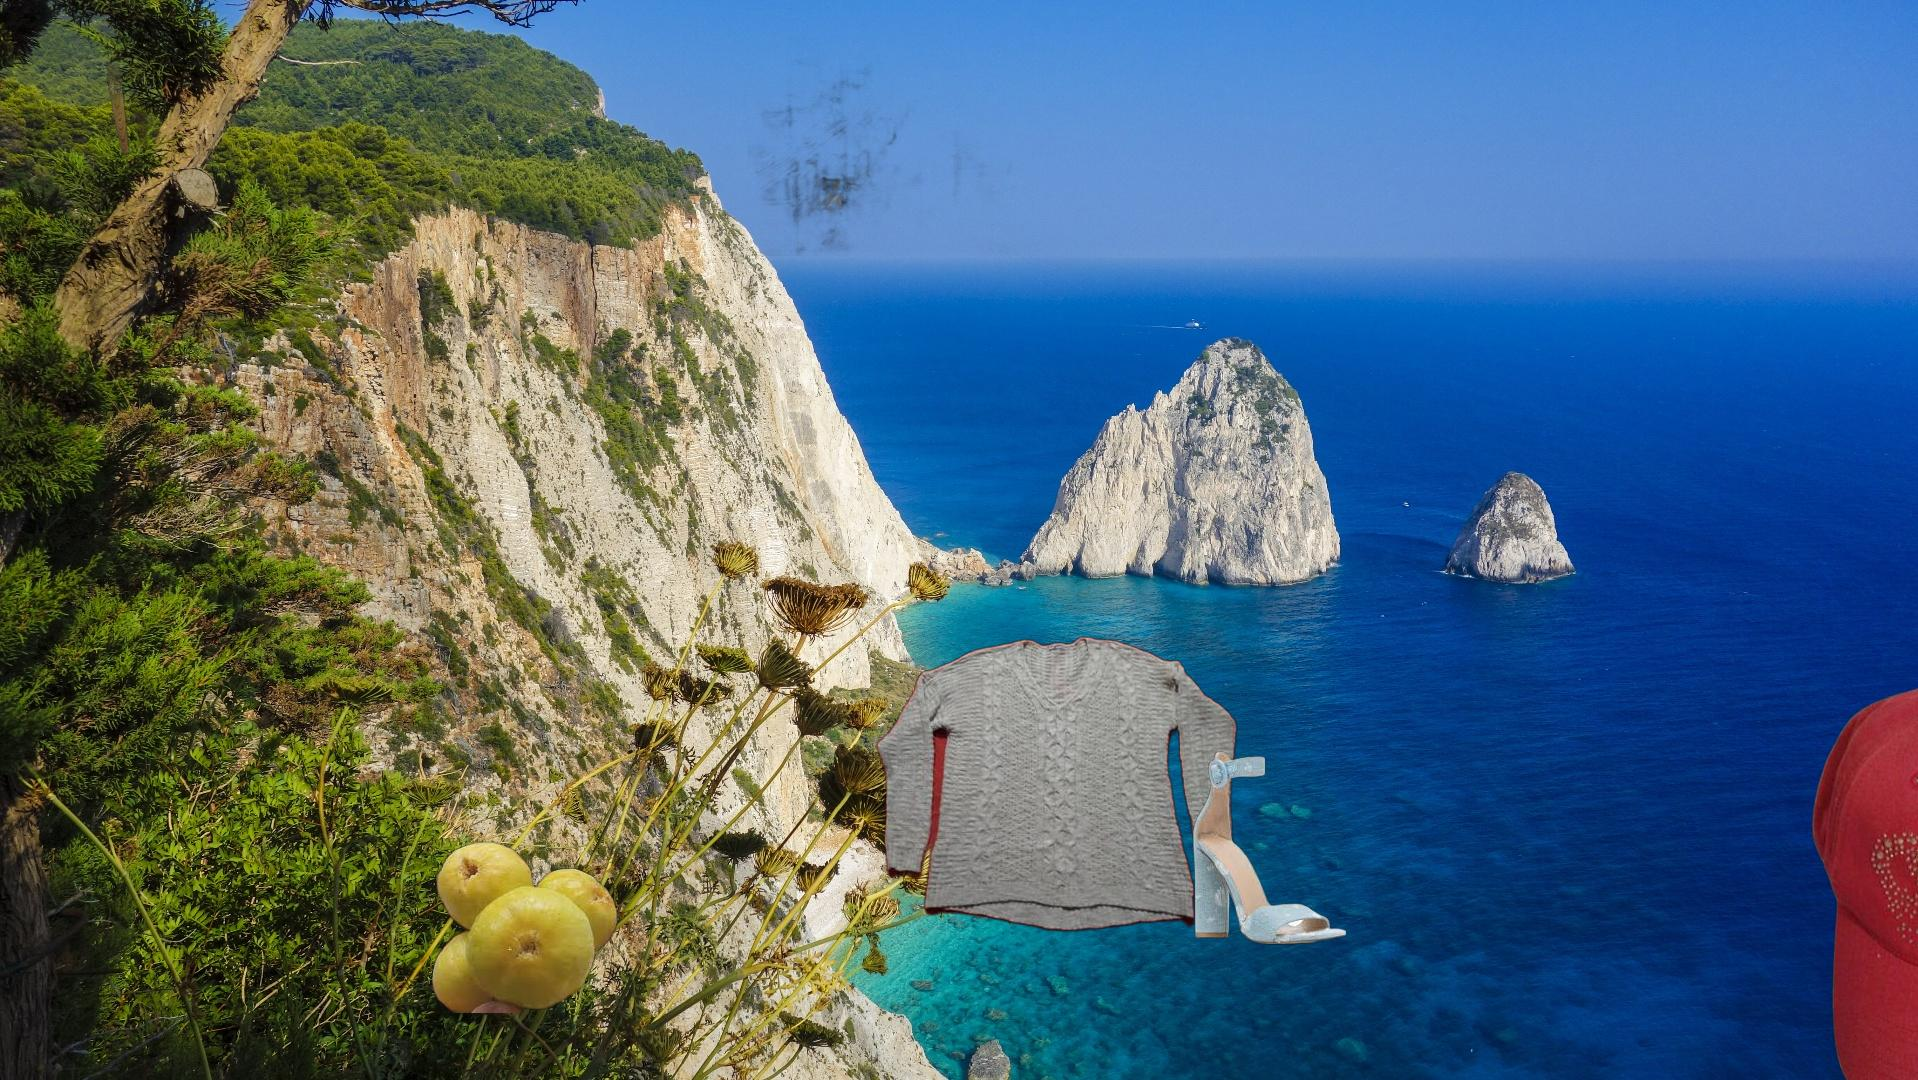biological: (429, 839, 620, 1013)
clothes: (873, 634, 1242, 936), (1809, 676, 1918, 1080)
penholder: (99, 13, 249, 159)
shoes: (1190, 748, 1349, 950)
trashbox-cardboard: (748, 8, 1121, 256)
